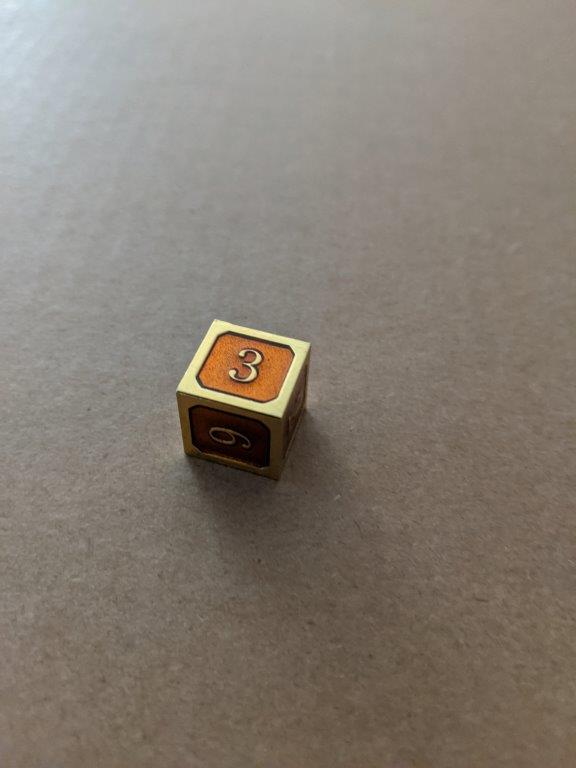d6-3: (174, 313, 313, 481)
